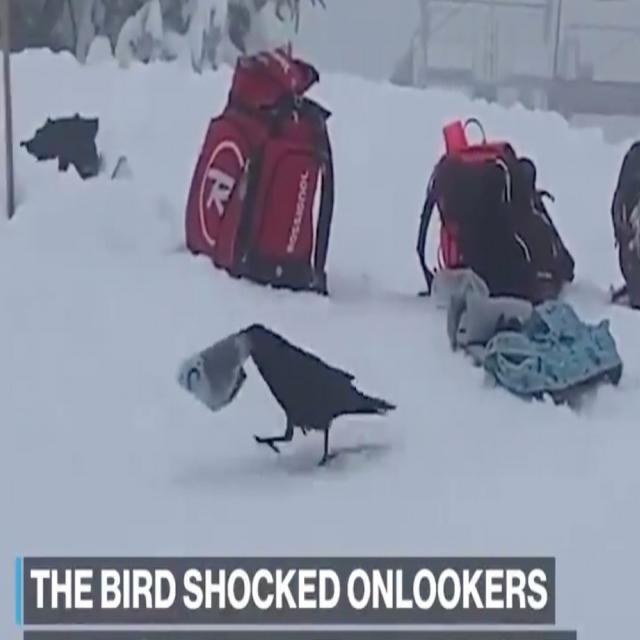Backpacks: (182, 37, 332, 300), (412, 107, 578, 313)
